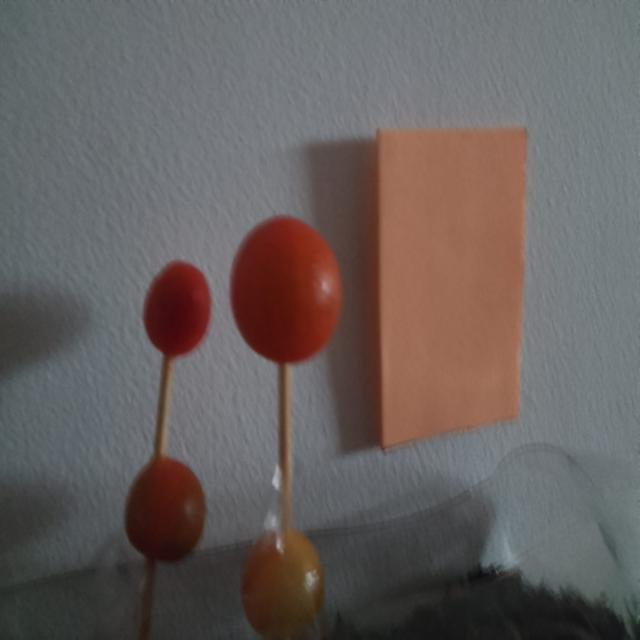card: (376, 127, 527, 447), (377, 127, 527, 447)
fruit_maturation: (242, 529, 323, 639)
fully_grown: (230, 216, 342, 364), (125, 456, 205, 561), (143, 260, 212, 358)
